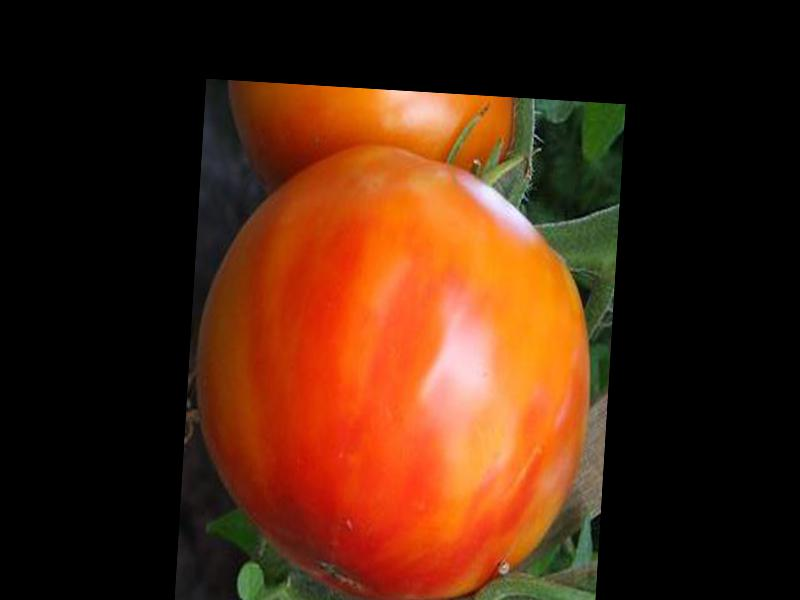Tomato: (183, 141, 603, 600)
